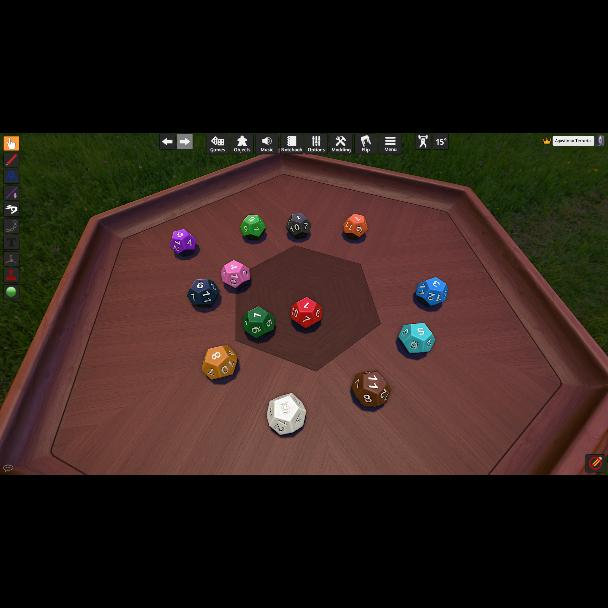d12: (266, 392, 306, 434), (351, 372, 389, 408), (202, 345, 236, 380), (243, 306, 275, 340), (290, 297, 321, 329), (398, 323, 430, 354), (415, 277, 447, 307), (187, 278, 217, 307), (220, 261, 248, 289), (172, 229, 198, 257), (240, 215, 266, 241), (343, 214, 367, 241), (287, 213, 311, 239)
